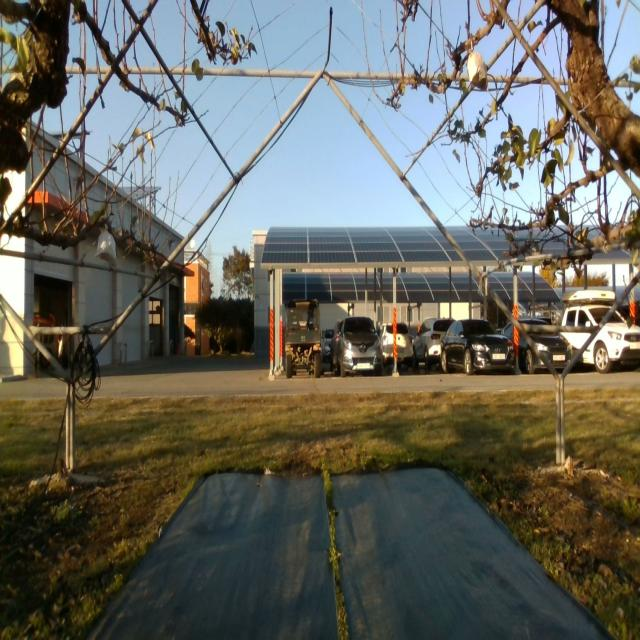pearbags: (467, 42, 489, 92), (95, 223, 117, 267)
